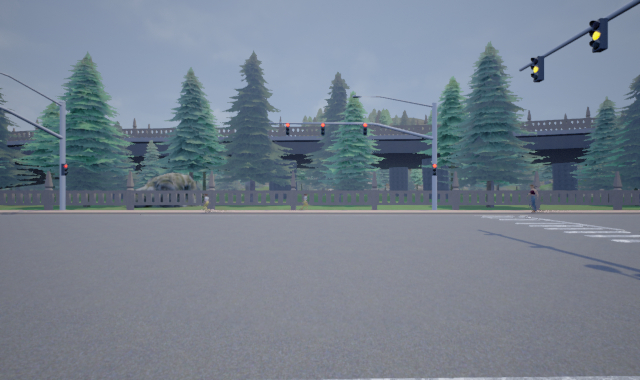pedestrian: (525, 183, 542, 212), (199, 191, 213, 212), (299, 191, 310, 210)
traffic_light: (588, 16, 608, 53), (528, 56, 546, 83), (318, 121, 326, 138), (60, 163, 69, 176), (285, 121, 291, 138), (362, 123, 368, 136), (431, 162, 436, 177)
